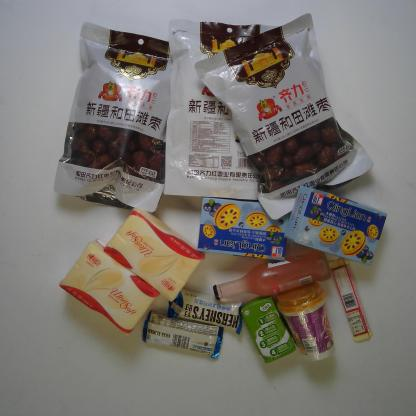Alcohol: (211, 250, 333, 300)
Chocolate: (141, 307, 224, 360), (166, 286, 245, 336), (327, 258, 374, 341)
Dessert: (282, 184, 388, 268), (196, 196, 287, 263)
Dried Food: (194, 12, 375, 221), (52, 19, 180, 213), (163, 16, 284, 202)
Instant Drink: (275, 280, 337, 362)
Milk: (239, 293, 297, 366)
Tissue: (102, 205, 206, 303), (58, 238, 161, 335)
